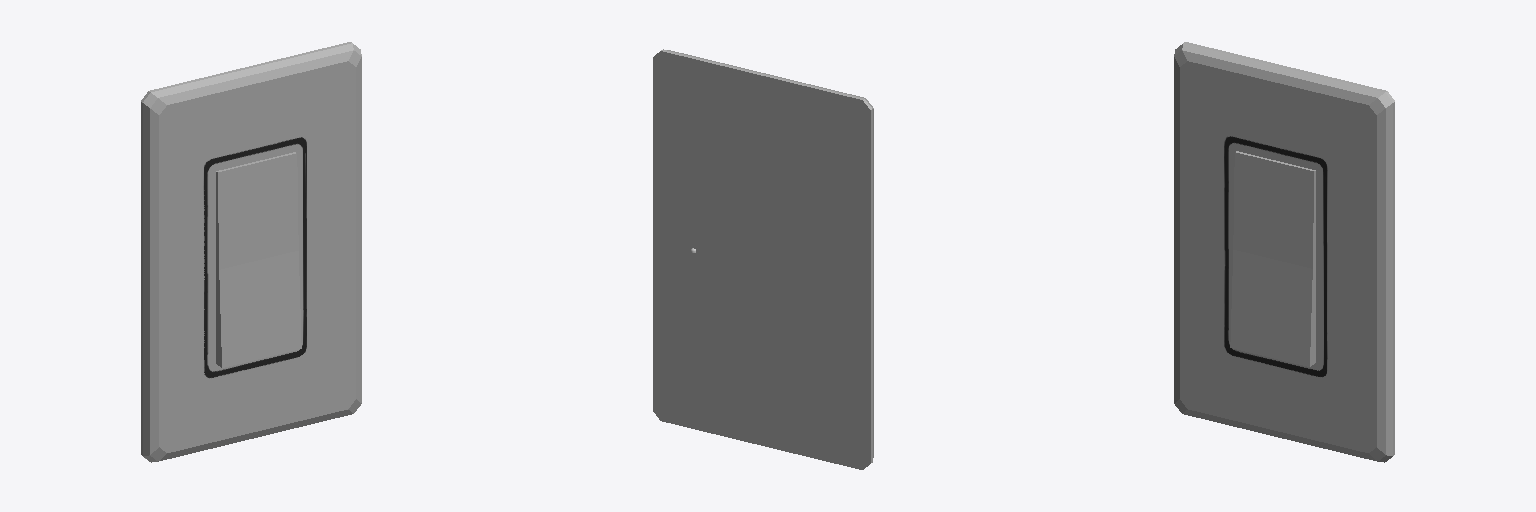
The picture shows the model from 3 angles: view 1: azimuth 30°, elevation 25°; view 2: azimuth 150°, elevation 25°; view 3: azimuth 330°, elevation 25°; orthographic projection.
Parts seen in each view (by area): view 1: LightPlate__0, Switch_Left__0; view 2: LightPlate__0; view 3: LightPlate__0, Switch_Left__0.
Boxes of the visible parts, box(x1,y1,x2,y2) form: LightPlate__0: box(141, 42, 361, 462); Switch_Left__0: box(216, 152, 301, 367); LightPlate__0: box(653, 49, 873, 469); LightPlate__0: box(1174, 42, 1394, 462); Switch_Left__0: box(1230, 151, 1315, 366).
Bounding box in the file's own units: 281 × 456 × 35.28.
6 materials, 1 textured.